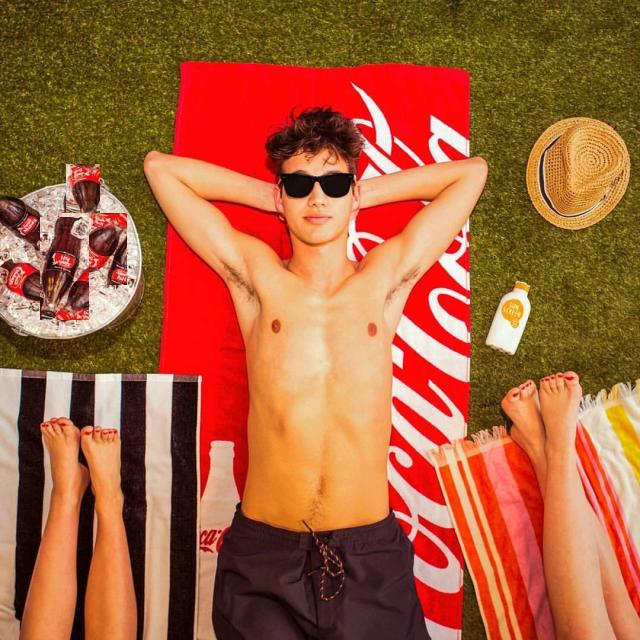coca-cola: (40, 217, 89, 320), (59, 213, 128, 285), (66, 164, 100, 230), (0, 252, 40, 303)
